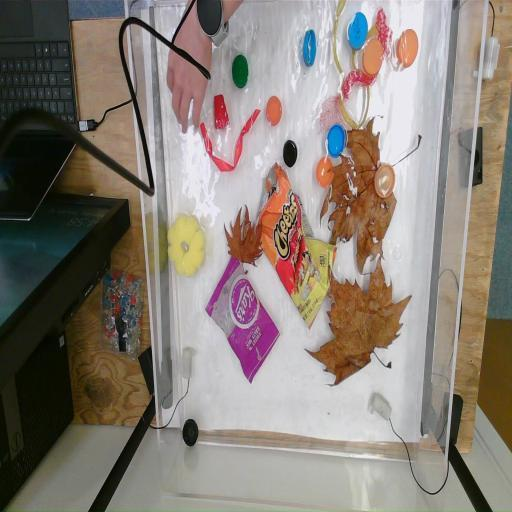Bottle Cap: (398, 26, 420, 71), (346, 11, 368, 50), (364, 35, 384, 76), (374, 162, 396, 198), (326, 122, 346, 158), (232, 54, 250, 90), (265, 94, 283, 128), (315, 156, 334, 188), (182, 417, 199, 448), (304, 30, 318, 66), (284, 141, 296, 167)
Cone Cap: (212, 92, 232, 132)
Leaf: (324, 118, 422, 264), (312, 265, 411, 382), (221, 204, 264, 274)
Netting: (338, 11, 394, 105), (319, 96, 352, 142)
Plastic Bag: (254, 162, 336, 328), (204, 254, 280, 390)
Plastic Strand: (334, 0, 372, 130), (200, 109, 262, 171)
Sponge: (169, 214, 206, 280)
